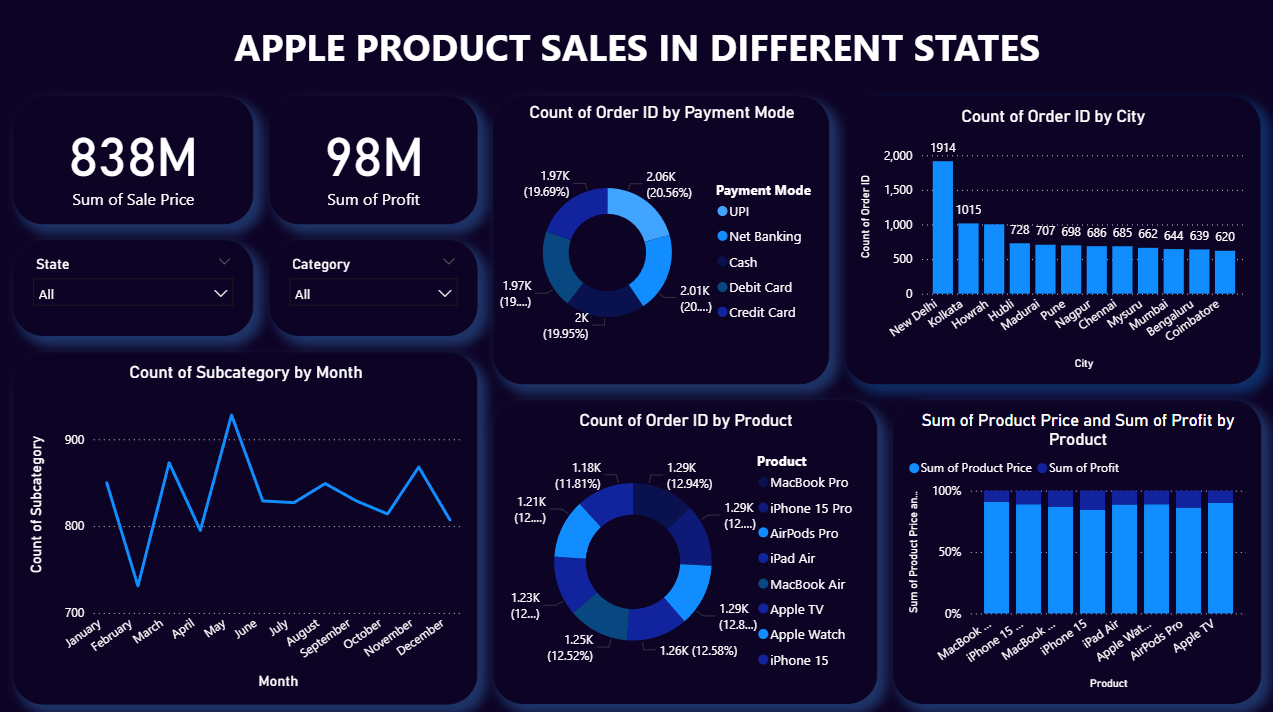

This screenshot's page, from the dashboard's own definition file:
{"tool":"powerbi","page":{"name":"Page 1","canvas":[1280,720],"ordinal":0},"visuals":[{"type":"card","fields":{"Values":["Sum(Apple Sales Data India.Sale Price)"]},"box":[16,96,240,128],"z":1000},{"type":"card","fields":{"Values":["Sum(Apple Sales Data India.Profit)"]},"box":[272,96,208,128],"z":2000},{"type":"donutChart","fields":{"Y":["CountNonNull(Apple Sales Data India.Order ID)"],"Category":["Apple Sales Data India.Product"]},"box":[496,400,384,304],"z":3000},{"type":"hundredPercentStackedColumnChart","fields":{"Y":["Sum(Apple Sales Data India.Product Price)","Sum(Apple Sales Data India.Profit)"],"Category":["Apple Sales Data India.Product"]},"box":[896,400,368,304],"z":4000},{"type":"slicer","fields":{"Values":["Apple Sales Data India.State"]},"box":[16,240,240,96],"z":5000},{"type":"clusteredColumnChart","fields":{"Category":["Apple Sales Data India.City"],"Y":["CountNonNull(Apple Sales Data India.Order ID)"]},"box":[848,96,416,288],"z":6000},{"type":"donutChart","fields":{"Category":["Apple Sales Data India.Payment Mode"],"Y":["CountNonNull(Apple Sales Data India.Order ID)"]},"box":[496,96,336,288],"z":7000},{"type":"slicer","fields":{"Values":["Apple Sales Data India.Category"]},"box":[272,240,208,96],"z":8000},{"type":"textbox","box":[16,16,1248,64],"z":9000},{"type":"lineChart","fields":{"Category":["Apple Sales Data India.Purchase Date.Variation.Date Hierarchy.Month"],"Y":["CountNonNull(Apple Sales Data India.Subcategory)"]},"box":[16,352,464,352],"z":10000}]}

Visuals, with their boxes in screenshot pixels (x1, y1, x2, y2), scaled from the page's 1280x720 canvas onto the 1273x712 screenshot:
card - Sum(Apple Sales Data India.Sale Price): 16 95 255 222
card - Sum(Apple Sales Data India.Profit): 271 95 477 222
donutChart - CountNonNull(Apple Sales Data India.Order ID) x Apple Sales Data India.Product: 493 396 875 696
hundredPercentStackedColumnChart - Sum(Apple Sales Data India.Product Price) x Sum(Apple Sales Data India.Profit): 891 396 1257 696
slicer - Apple Sales Data India.State: 16 237 255 332
clusteredColumnChart - Apple Sales Data India.City x CountNonNull(Apple Sales Data India.Order ID): 843 95 1257 380
donutChart - Apple Sales Data India.Payment Mode x CountNonNull(Apple Sales Data India.Order ID): 493 95 827 380
slicer - Apple Sales Data India.Category: 271 237 477 332
textbox: 16 16 1257 79
lineChart - Apple Sales Data India.Purchase Date.Variation.Date Hierarchy.Month x CountNonNull(Apple Sales Data India.Subcategory): 16 348 477 696
